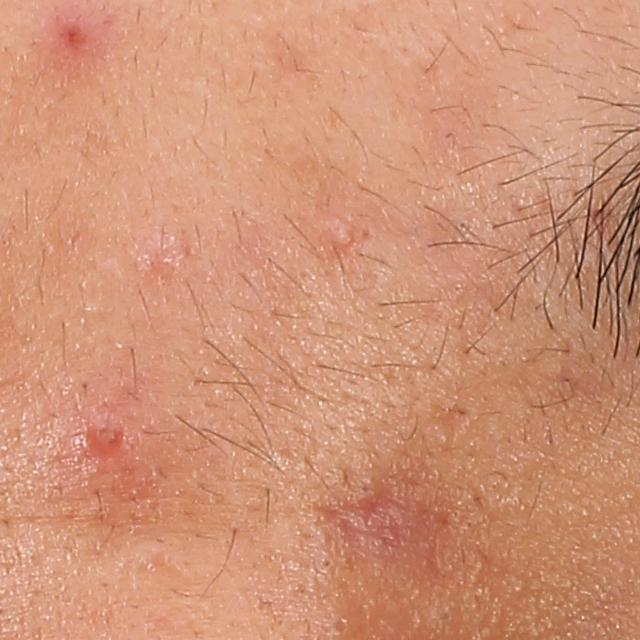atrophic_scar: (304, 484, 456, 590), (136, 230, 195, 297)
comedo: (331, 615, 355, 638), (317, 553, 336, 573)
papule: (58, 16, 97, 51)
